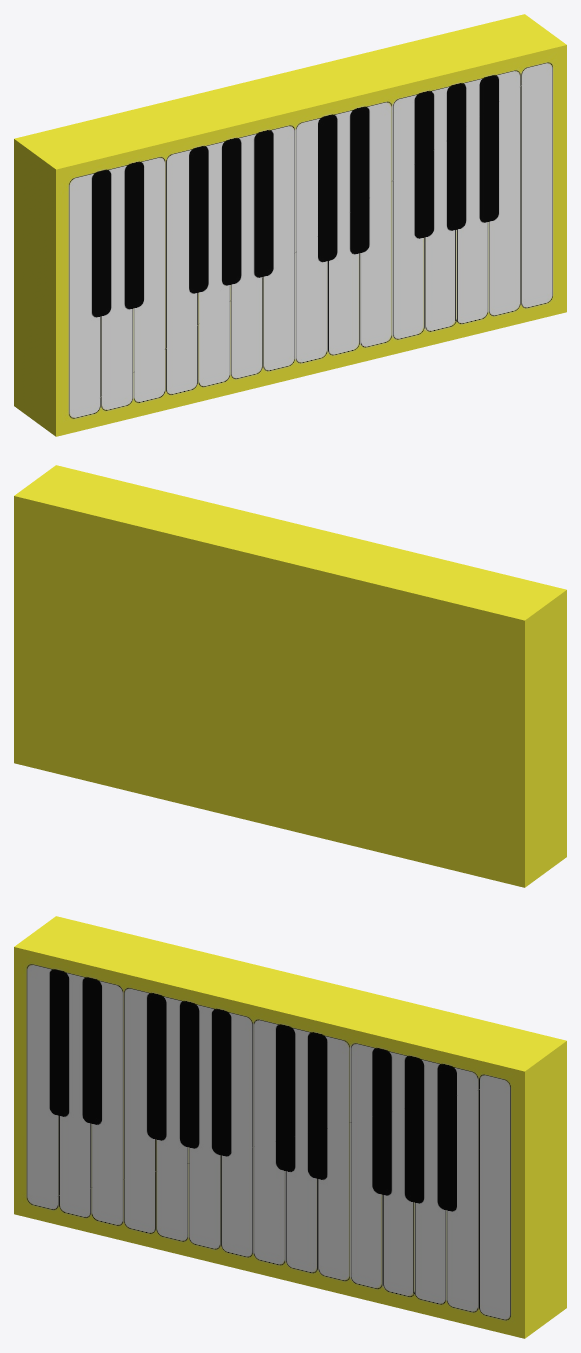
The model's file is Keyboard_Final.FBX.
The picture shows the model from 3 angles, top to bottom: view 1: azimuth 30°, elevation 25°; view 2: azimuth 150°, elevation 25°; view 3: azimuth 330°, elevation 25°; orthographic projection.
Parts seen in each view (by area): view 1: A_Keyboard_Final; view 2: A_Keyboard_Final; view 3: A_Keyboard_Final.
Boxes of the visible parts, x1=… form: A_Keyboard_Final: x1=14, y1=14, x2=566, y2=436; A_Keyboard_Final: x1=14, y1=465, x2=566, y2=887; A_Keyboard_Final: x1=14, y1=916, x2=566, y2=1338.
Bounding box in the file's own units: 356 × 178 × 50.8.
Materials: 1 (1 with a texture image).
